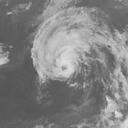cyclone: (29, 5, 122, 83)
